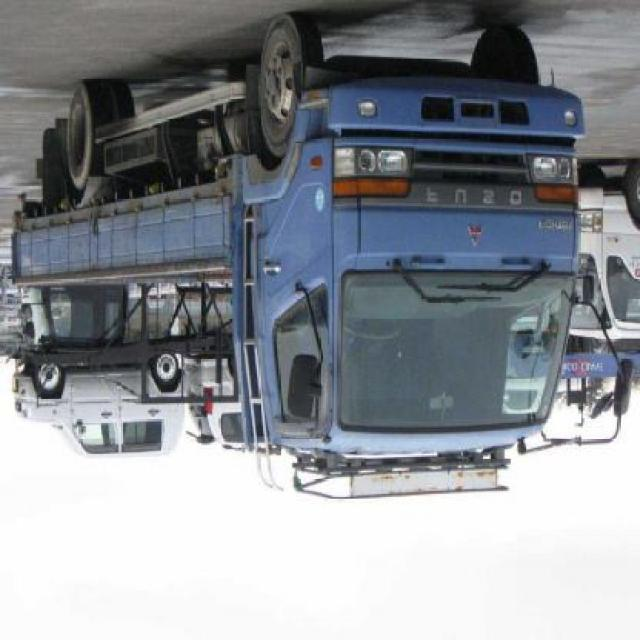truck: (11, 14, 631, 500)
